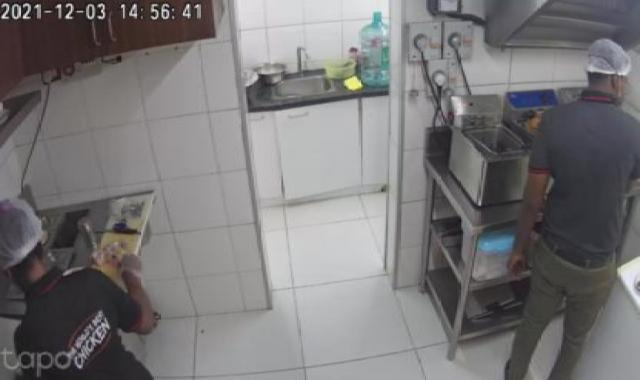hairnet: (0, 198, 63, 274), (580, 31, 636, 89)
